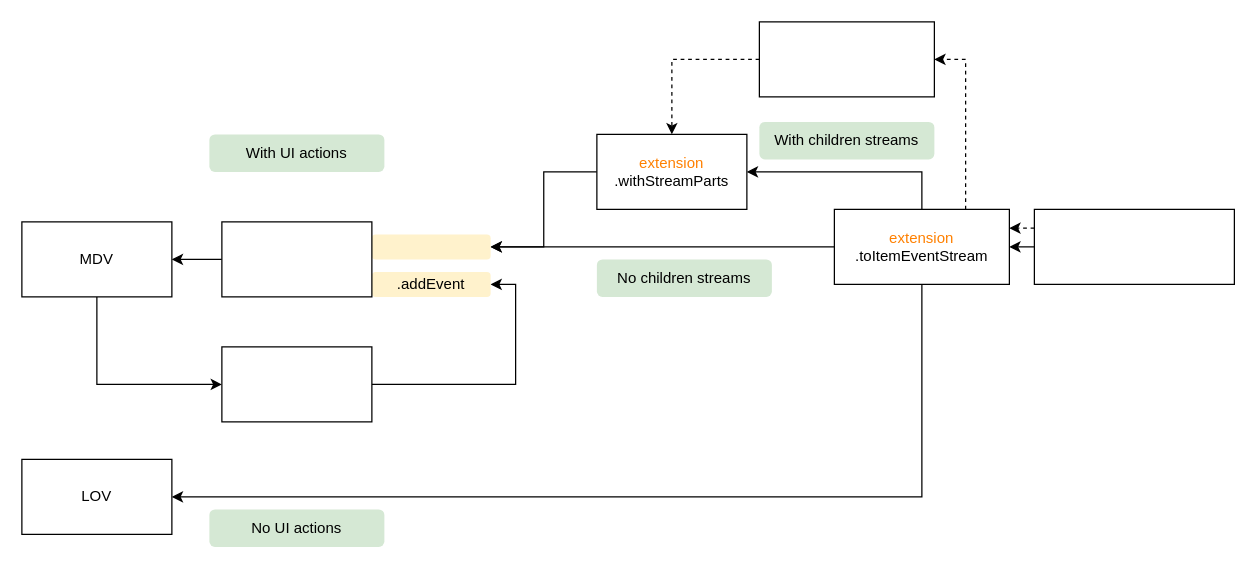
Image size: 1256x569. Some labels were removed from this diagram. The centre of each missing label's shape, as x and y in pixels:
.addStream: point 430,246
ChildrenStreamPart / PropertyStreamPart: point 846,59
Repository .itemOperationsStream: point 1133,246
StreamMaestro: point 296,259
UI action events: point 296,384
